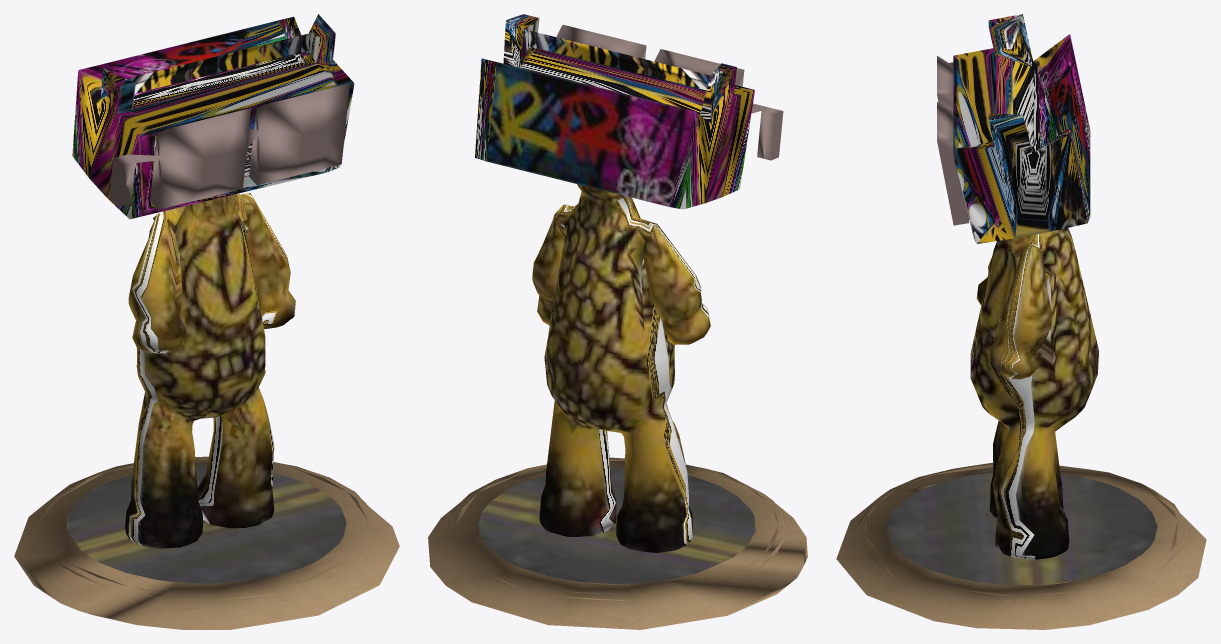
The picture shows the model from 3 angles, left to right: view 1: azimuth 30°, elevation 25°; view 2: azimuth 150°, elevation 25°; view 3: azimuth 270°, elevation 25°; orthographic projection. The views are drawn at different scales.
Size of the model in its own units: 1.44 by 2.1 by 1.44.
5 materials, 5 textured.
